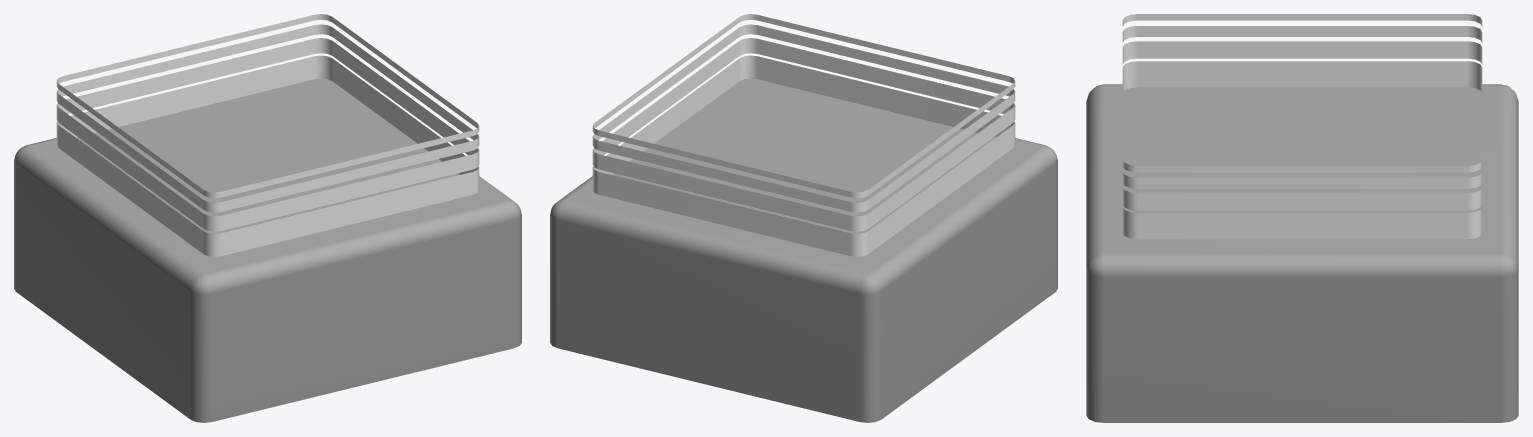
The model's file is Flag Holder.fbx.
The picture shows the model from 3 angles, left to right: view 1: azimuth 30°, elevation 25°; view 2: azimuth 150°, elevation 25°; view 3: azimuth 270°, elevation 25°; orthographic projection. The views are drawn at different scales.
Visible parts, largest first — view 1: polySurface340; view 2: polySurface340; view 3: polySurface340.
Boxes of the visible parts, box(x1,y1,x2,y2) form: polySurface340: box(14, 14, 521, 422); polySurface340: box(550, 14, 1057, 422); polySurface340: box(1086, 14, 1518, 422).
Bounding box in the file's own units: 109 × 67.17 × 109.
Materials: 2 (1 with a texture image).
